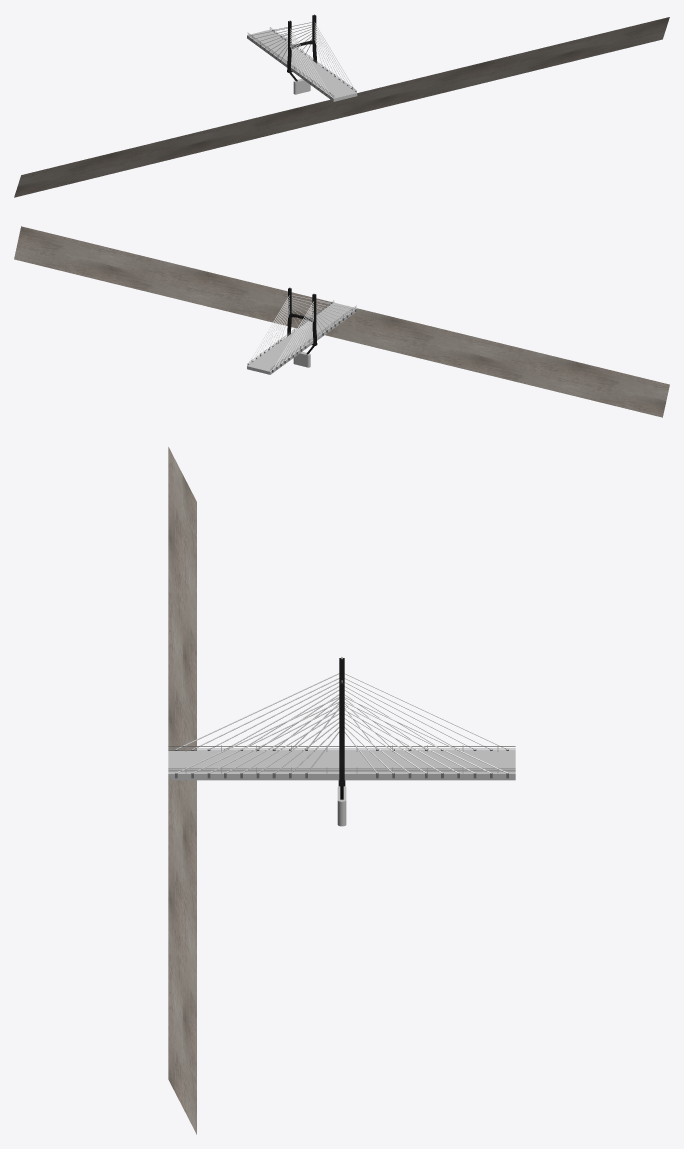
The model's file is ponte1.obj.
3 views of the same model, one above another, from view 1: azimuth 30°, elevation 25°; view 2: azimuth 150°, elevation 25°; view 3: azimuth 270°, elevation 25° (orthographic). The views are drawn at different scales.
Parts seen in each view (by area): view 1: Plane, Cube_Cube.001; view 2: Plane, Cube_Cube.001; view 3: Plane, Cube_Cube.001.
Part boxes in pixels (x1=…): Plane: x1=14, y1=17, x2=669, y2=197; Cube_Cube.001: x1=247, y1=29, x2=357, y2=101; Plane: x1=14, y1=226, x2=669, y2=417; Cube_Cube.001: x1=247, y1=302, x2=357, y2=374; Plane: x1=168, y1=447, x2=196, y2=1134; Cube_Cube.001: x1=168, y1=751, x2=515, y2=780.
Bounding box in the file's own units: 2208 × 243 × 512.
